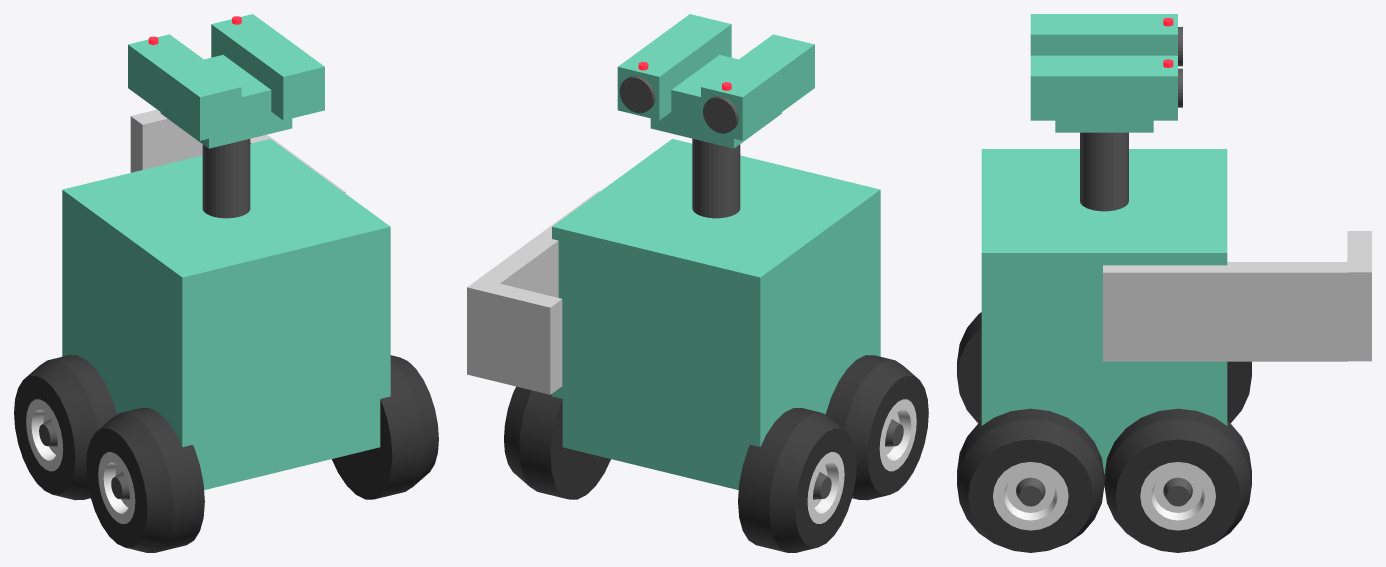
The picture shows the model from 3 angles, left to right: view 1: azimuth 30°, elevation 25°; view 2: azimuth 150°, elevation 25°; view 3: azimuth 270°, elevation 25°; orthographic projection. The views are drawn at different scales.
Parts seen in each view (by area): view 1: Cube, wheel_frontLeft.002, wheel_frontLeft.001, wheel_frontLeft.004, Cube.004, Cube.001, Cylinder.002, Cube.005, Cube.003; view 2: Cube, wheel_frontLeft.001, wheel_frontLeft.002, Cube.003, wheel_frontLeft.003, Cube.004, Cube.001, Cylinder.002, Cube.002, Cube.005, Cylinder.001, Cylinder.004; view 3: Cube, Cube.002, wheel_frontLeft.004, wheel_frontLeft.003, Cube.001, Cube.004, Cylinder.002, Cube.003, wheel_frontLeft.002, Cube.005, wheel_frontLeft.001.
Part boxes in pixels (x1,y1,x2,y2): Cube: (62, 139, 390, 489); wheel_frontLeft.002: (86, 408, 204, 552); wheel_frontLeft.001: (14, 355, 117, 500); wheel_frontLeft.004: (332, 355, 438, 499); Cube.004: (128, 34, 241, 140); Cube.001: (211, 14, 324, 120); Cylinder.002: (202, 139, 250, 218); Cube.005: (160, 55, 292, 148); Cube.003: (130, 109, 202, 172); Cube: (552, 139, 880, 489); wheel_frontLeft.001: (738, 408, 856, 552); wheel_frontLeft.002: (825, 355, 928, 500); Cube.003: (467, 278, 562, 394); wheel_frontLeft.003: (504, 386, 610, 499); Cube.004: (701, 34, 814, 140); Cube.001: (617, 14, 731, 120); Cylinder.002: (692, 138, 740, 218); Cube.002: (479, 191, 599, 297); Cube.005: (650, 54, 781, 148); Cylinder.001: (619, 75, 655, 113); Cylinder.004: (703, 96, 738, 133); Cube: (981, 149, 1227, 474); Cube.002: (1103, 262, 1348, 361); wheel_frontLeft.004: (957, 408, 1104, 552); wheel_frontLeft.003: (1104, 408, 1251, 552); Cube.001: (1030, 55, 1177, 120); Cube.004: (1030, 14, 1177, 55); Cylinder.002: (1080, 132, 1128, 211); Cube.003: (1347, 231, 1371, 361); wheel_frontLeft.002: (957, 312, 981, 423); Cube.005: (1055, 120, 1153, 132); wheel_frontLeft.001: (1227, 361, 1251, 423).
Bounding box in the file's own units: 0.7 × 1.01 × 0.8444.
